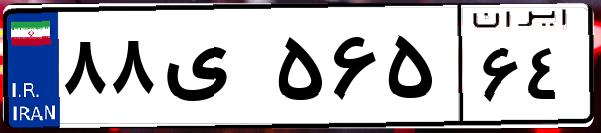4: (525, 38, 570, 115)
5: (270, 28, 330, 110), (385, 28, 445, 110)
6: (330, 28, 385, 110), (475, 38, 525, 113)
8: (57, 26, 110, 100), (110, 28, 158, 98)
ی: (158, 20, 270, 120)
